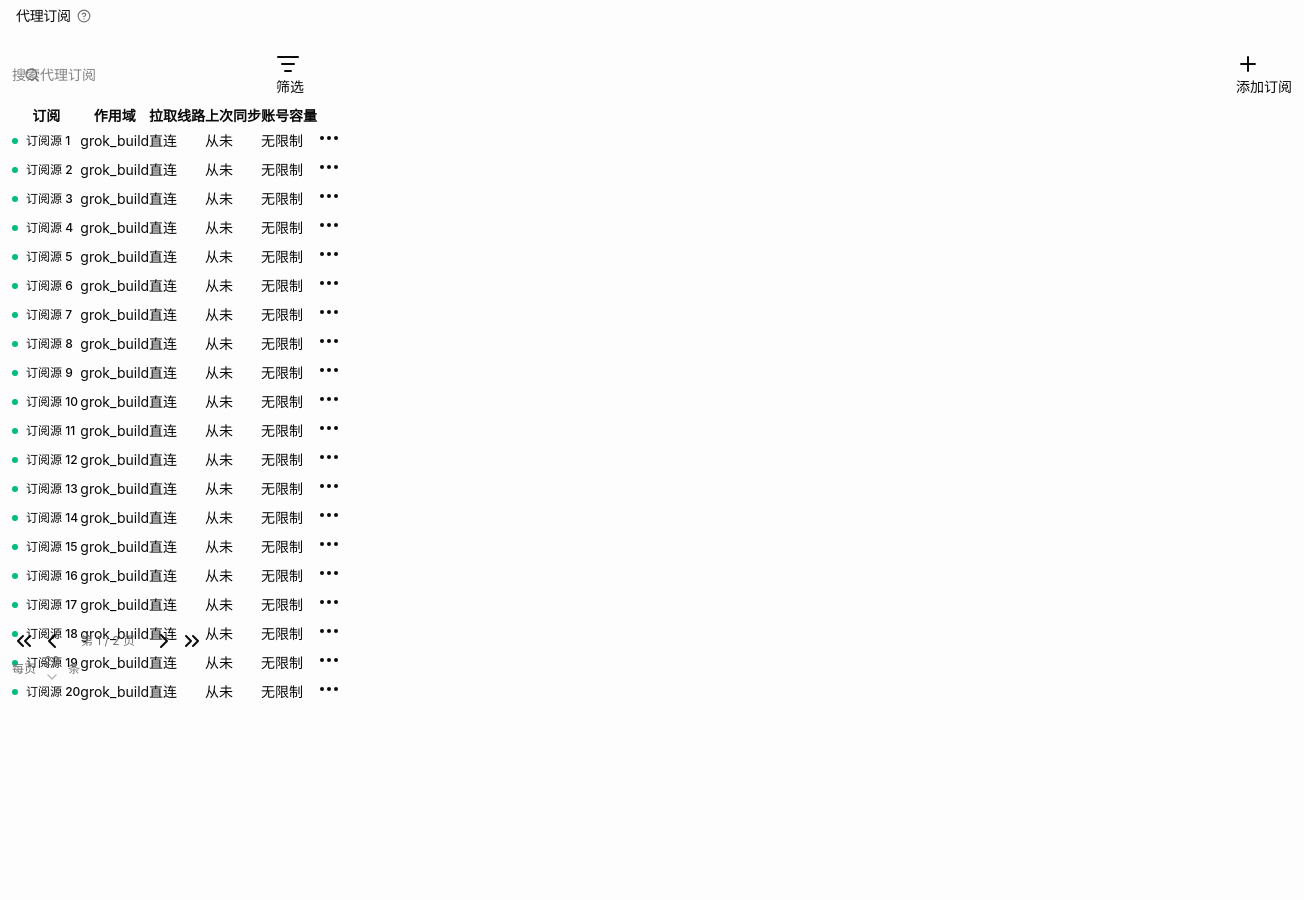
Test: EgressSources 订阅源列表 › 翻页展示下一页订阅源
Expected: the row with test id "egress-source-row-src-1" is shown, [12, 126, 341, 155]
Click the button named "下一页" at (164, 641), box [152, 629, 176, 653]
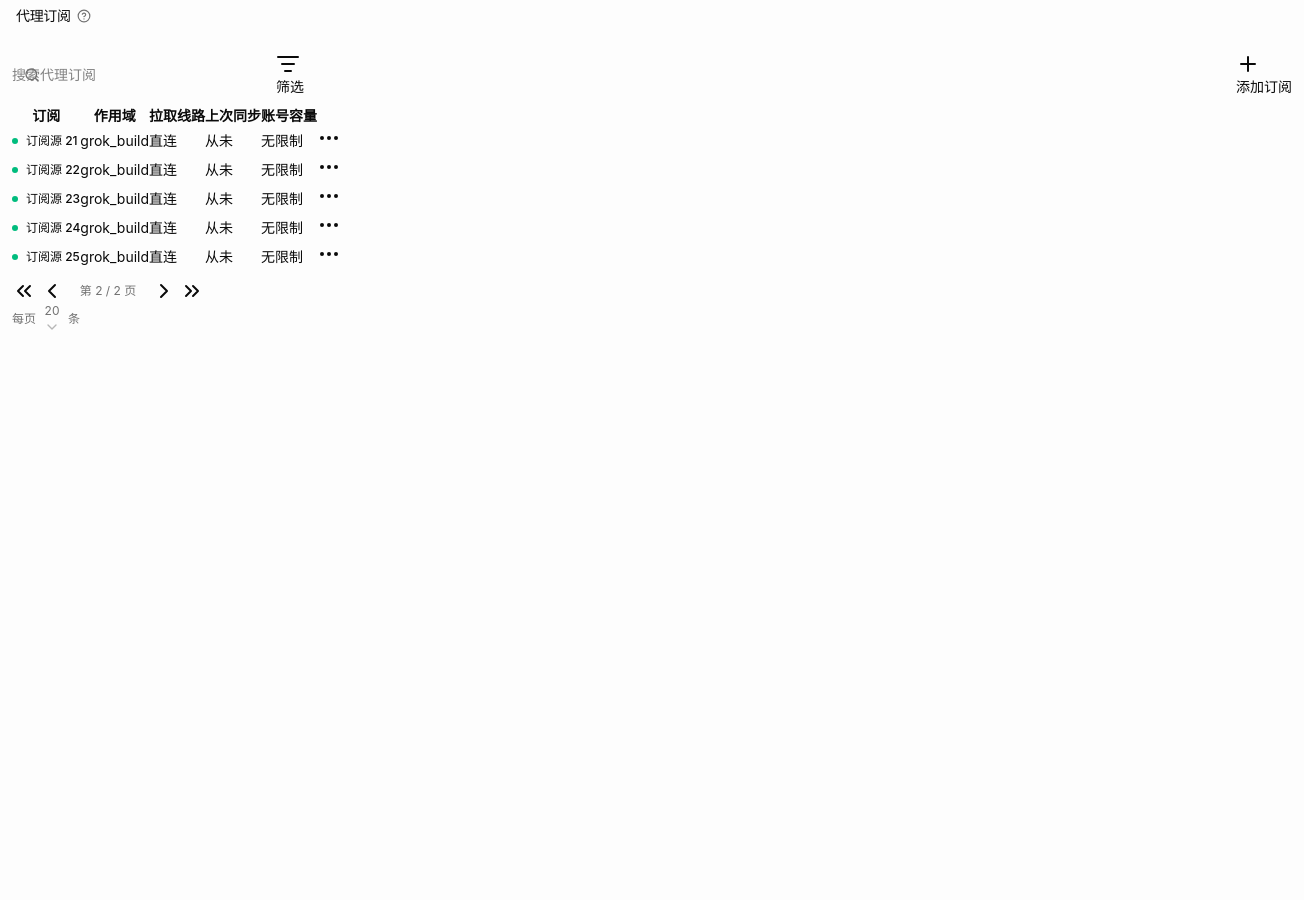
Expected: the row with test id "egress-source-row-src-21" is shown, [12, 126, 341, 155]
